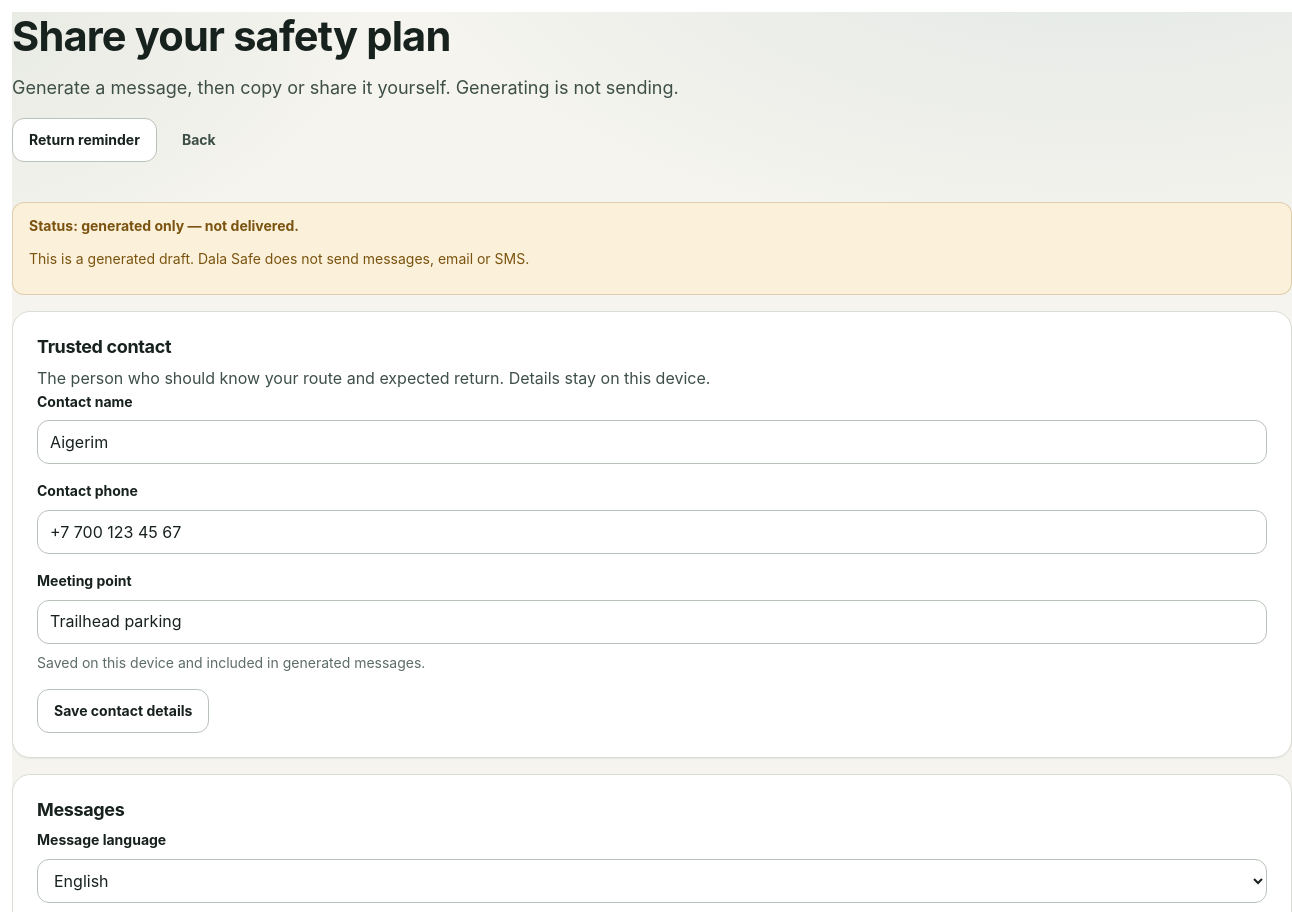
Scenario: SharePage › persists contact fields into the safety plan while preserving other fields
Replace the text in the field labelled "Contact name" with "Dana". click: (652, 442)
box: [37,420,1267,464]
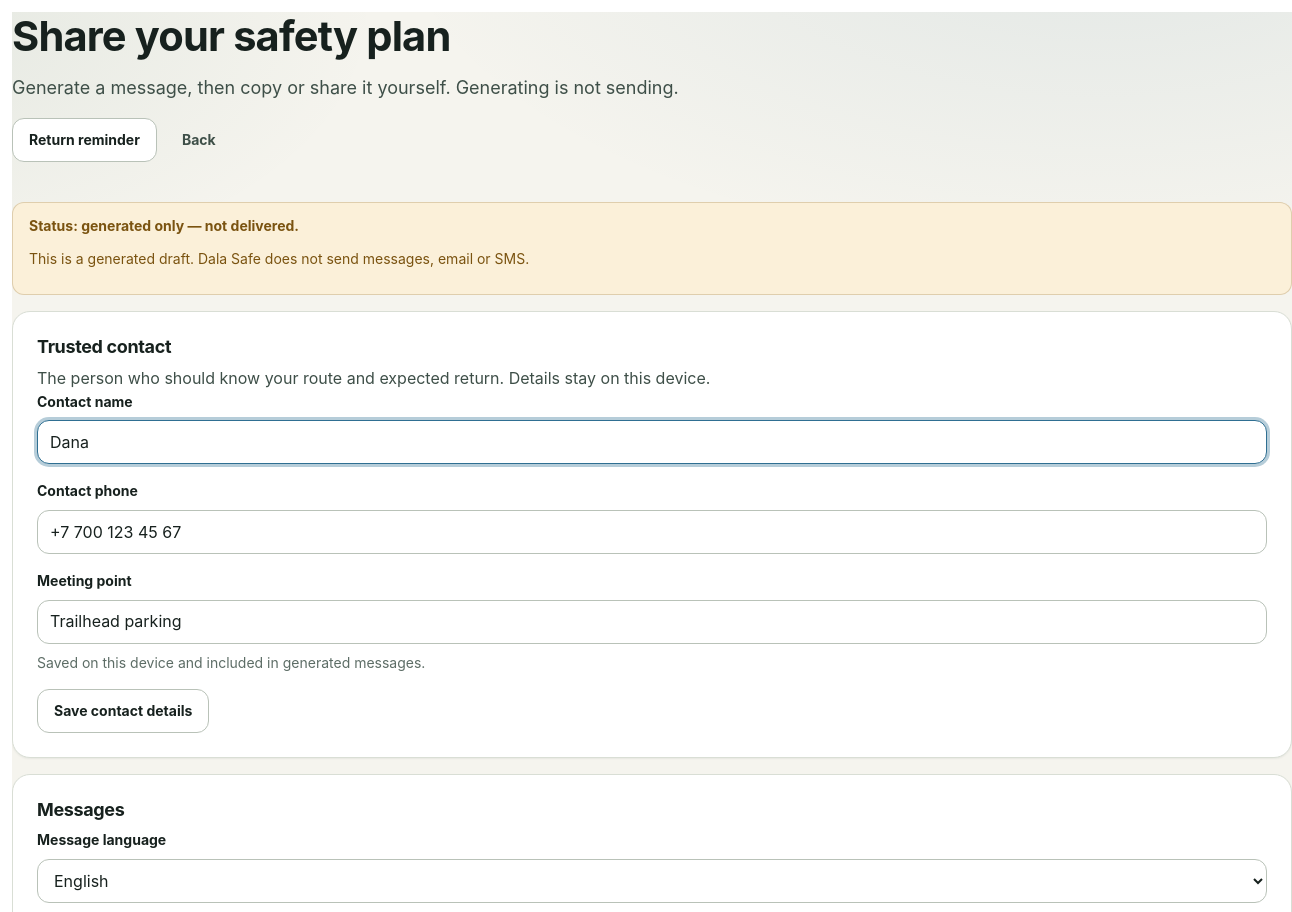
Replace the text in the field labelled "Contact phone" with "+7 701 555 44 33". click: (652, 532)
box: [37,510,1267,554]
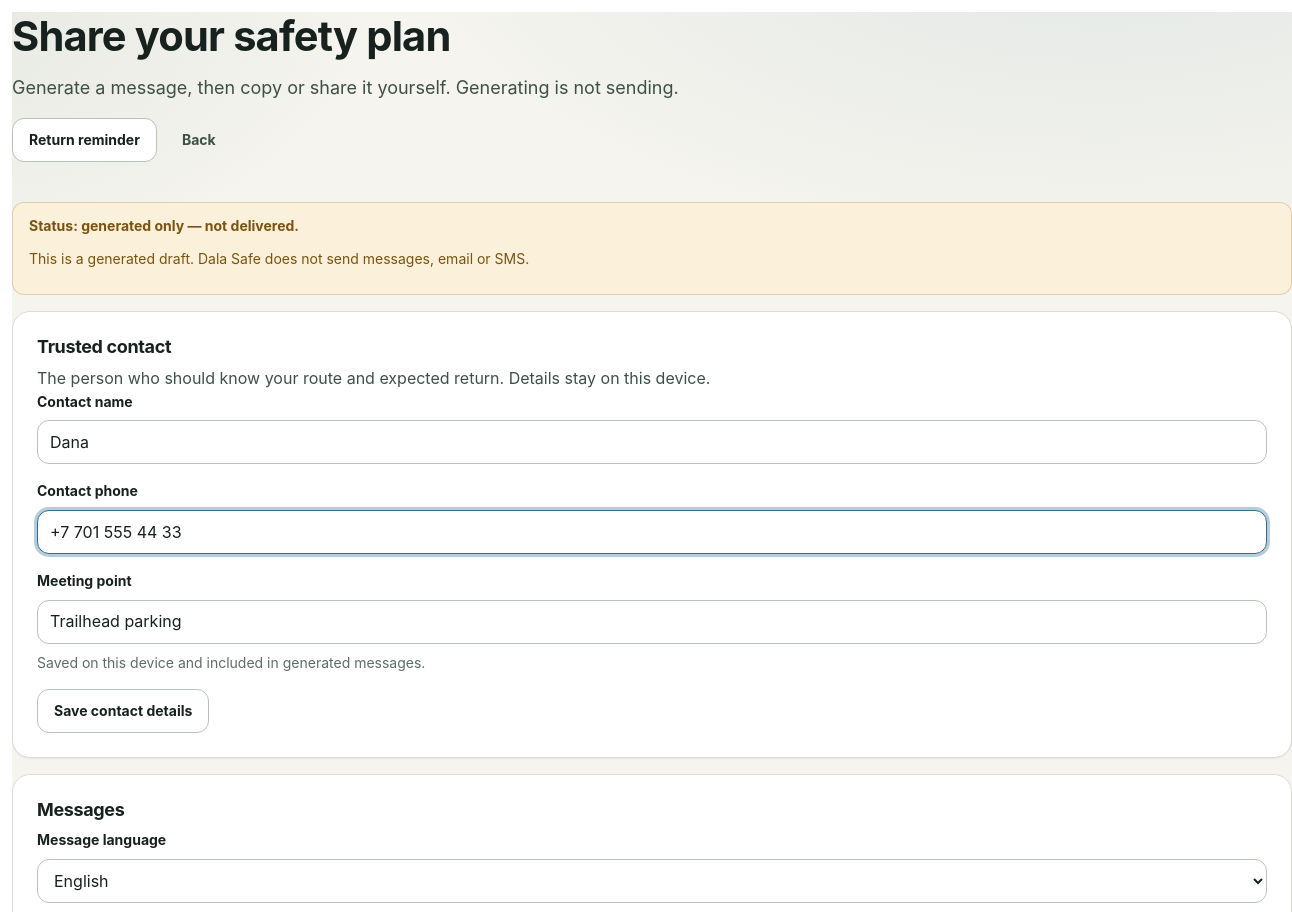
Replace the text in the field labelled "Meeting point" with "Bus stop". click: (652, 622)
box: [37,600,1267,644]
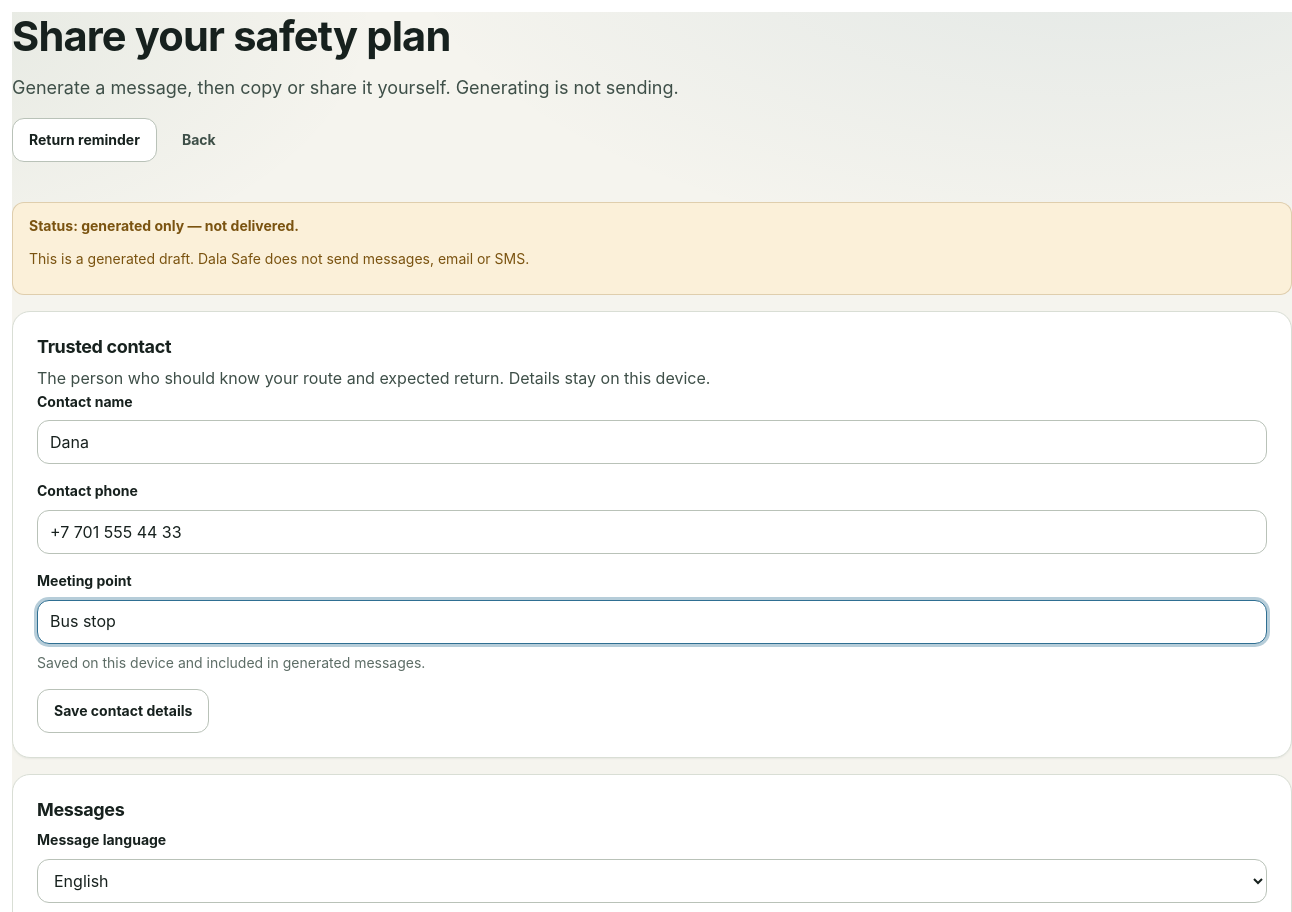
Click the button "Save contact details". click: (123, 711)
box: [37,689,209,733]
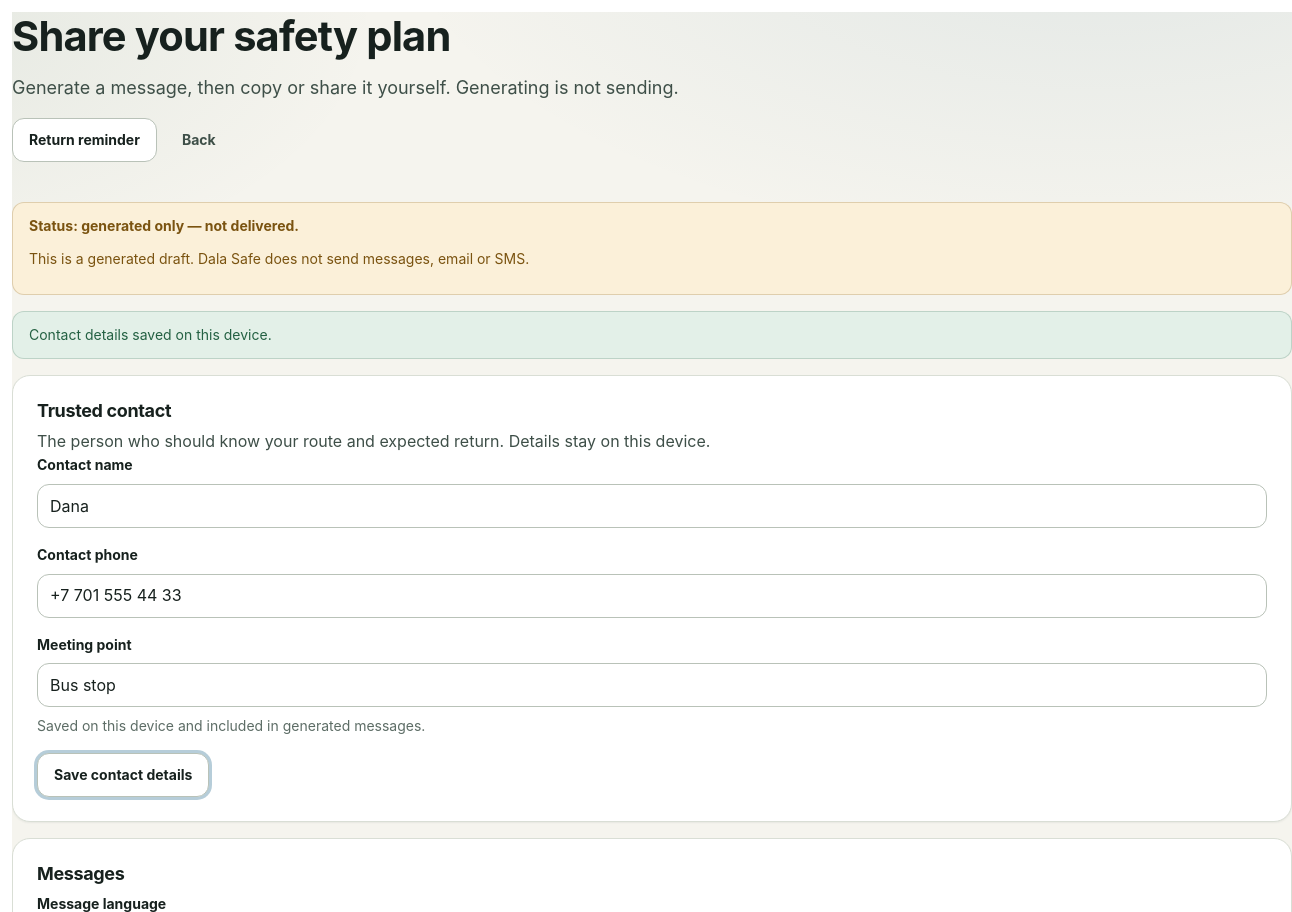
Result: the text "Contact details saved on this device." is shown at [12,311,1291,359]
